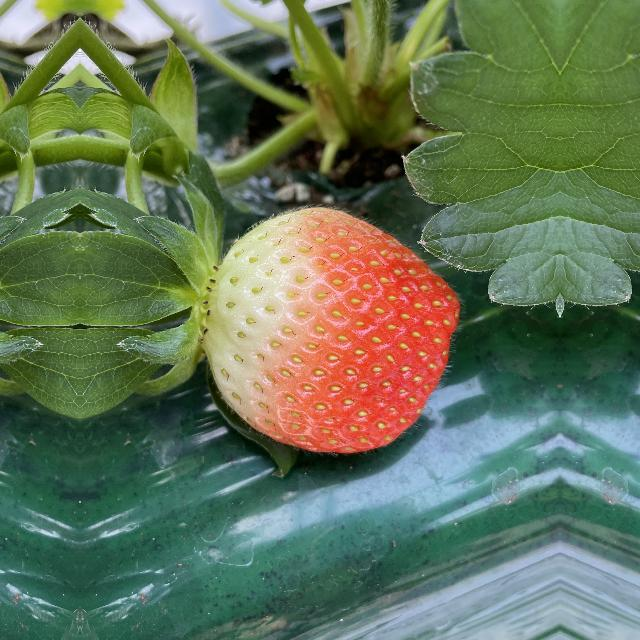Health_100: (206, 197, 470, 458)
